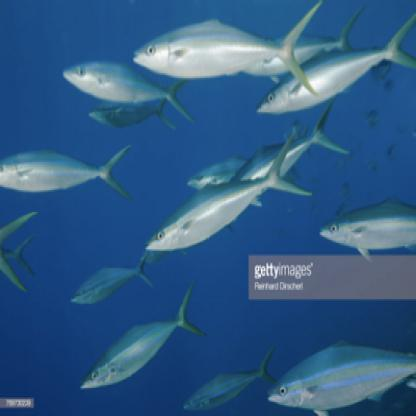Carangidae -Jacks-: (143, 130, 313, 255), (130, 3, 323, 102), (255, 15, 416, 115), (77, 278, 208, 392), (266, 330, 409, 414), (62, 54, 198, 121), (1, 138, 136, 204), (321, 201, 405, 247)
